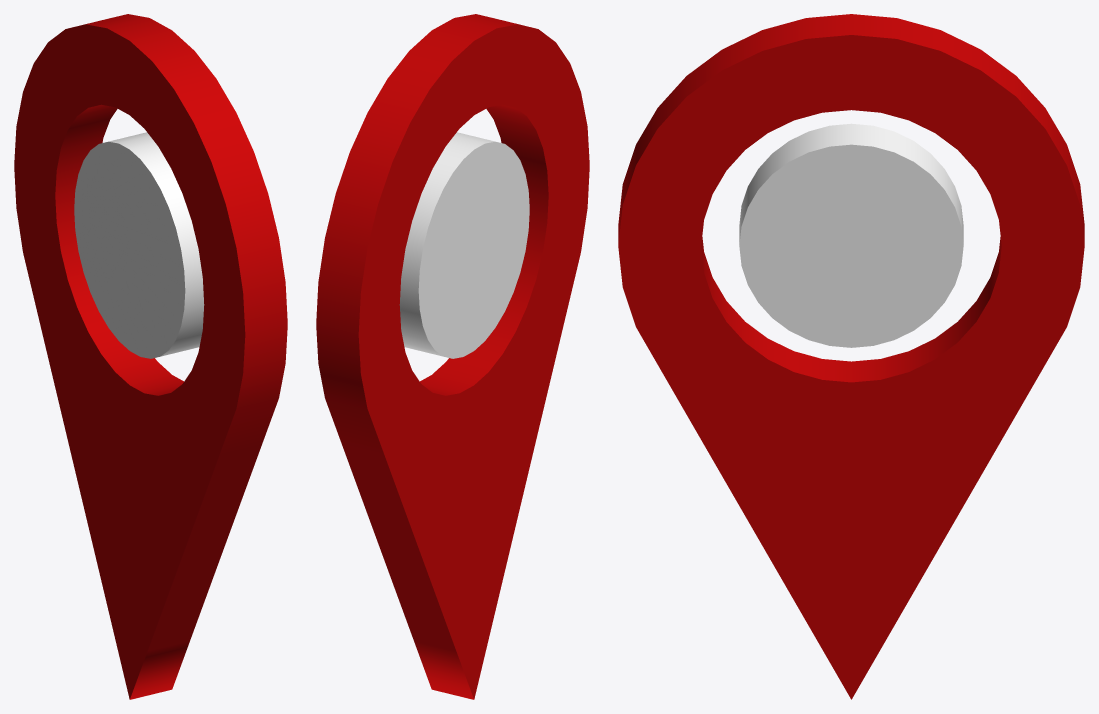
The model's file is annotation_3D.obj.
3 renders of one model, left to right at view 1: azimuth 30°, elevation 25°; view 2: azimuth 150°, elevation 25°; view 3: azimuth 270°, elevation 25°, orthographic.
Parts seen in each view (by area): view 1: outer_Cylinder.003, center_Cylinder.002; view 2: outer_Cylinder.003, center_Cylinder.002; view 3: outer_Cylinder.003, center_Cylinder.002.
Part boxes in pixels (left/top/right/bottom): outer_Cylinder.003: left=14, top=14, right=287, bottom=699; center_Cylinder.002: left=74, top=132, right=204, bottom=358; outer_Cylinder.003: left=316, top=14, right=589, bottom=699; center_Cylinder.002: left=399, top=132, right=529, bottom=358; outer_Cylinder.003: left=618, top=14, right=1084, bottom=699; center_Cylinder.002: left=739, top=123, right=963, bottom=347.
Size of the model in its own units: 0.0216 by 0.3204 by 0.2036.
